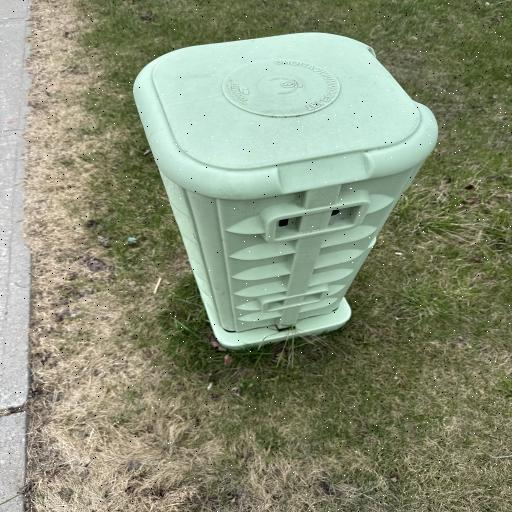Electrical Box: (134, 33, 436, 350)
